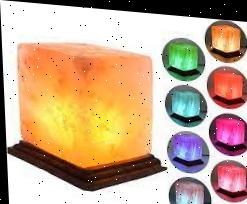cube: (17, 36, 154, 169)
